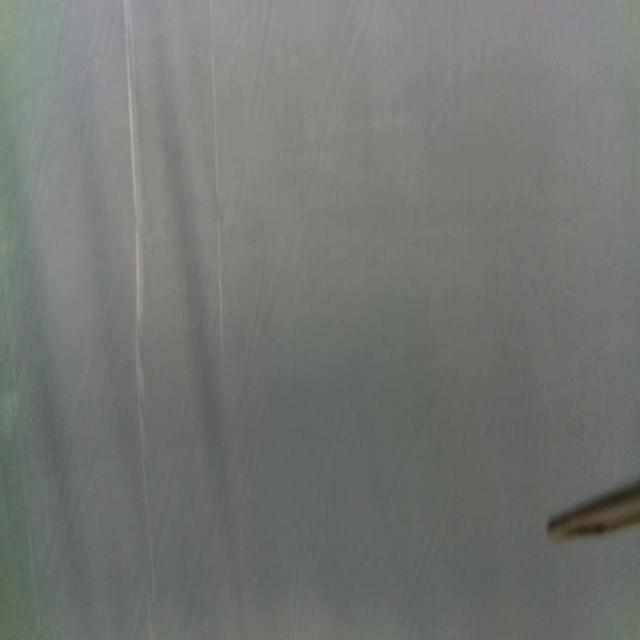crease: (124, 1, 159, 626), (10, 330, 45, 640), (207, 0, 226, 399)
